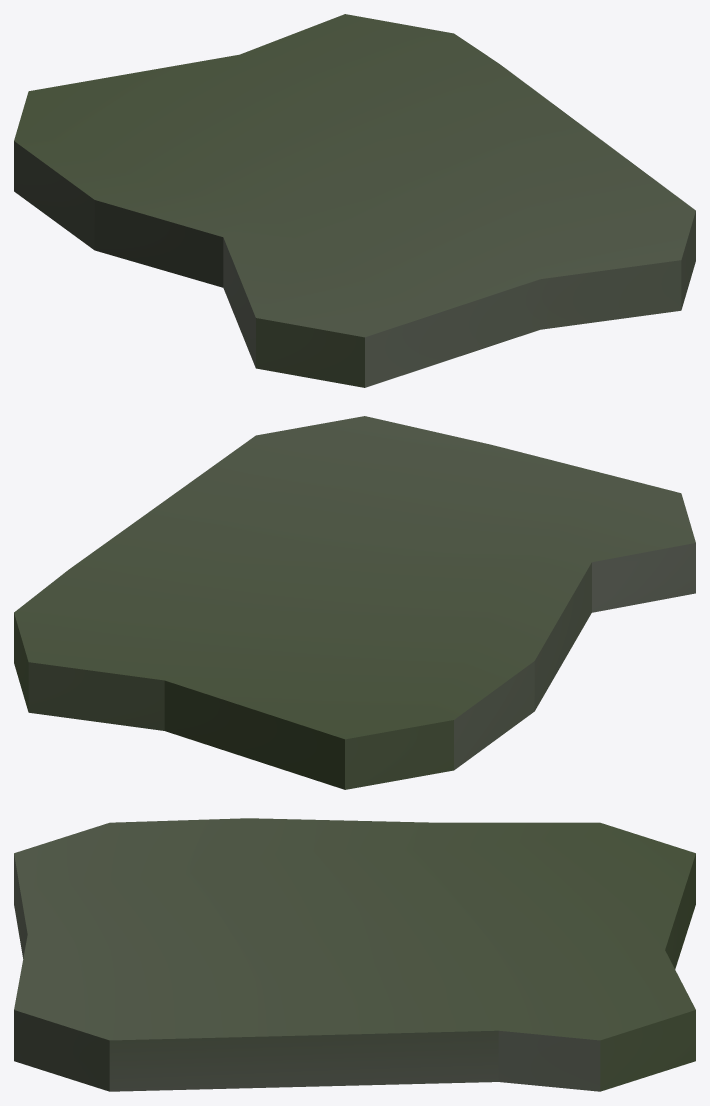
Rendered from Button_bottom.fbx.
The picture shows the model from 3 angles, top to bottom: view 1: azimuth 30°, elevation 25°; view 2: azimuth 150°, elevation 25°; view 3: azimuth 270°, elevation 25°; orthographic projection.
Visible parts, largest first — view 1: Cube; view 2: Cube; view 3: Cube.
Boxes of the visible parts, x1,y1,x2,y2 form: Cube: (14,14,695,387); Cube: (14,416,695,789); Cube: (14,818,695,1091).
Size of the model in its own units: 93.15 by 14.65 by 123.
1 material, 1 textured.
